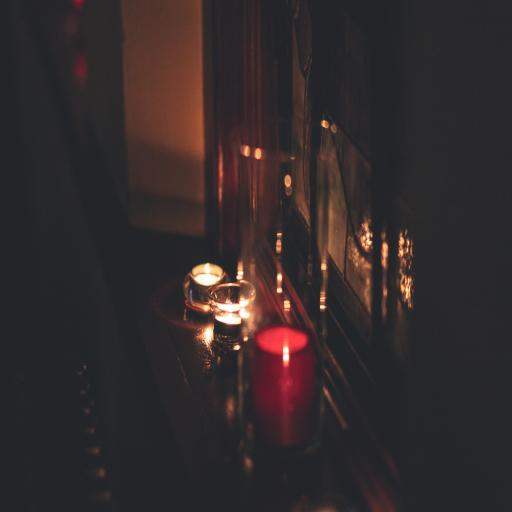candlelight: (242, 311, 322, 449)
